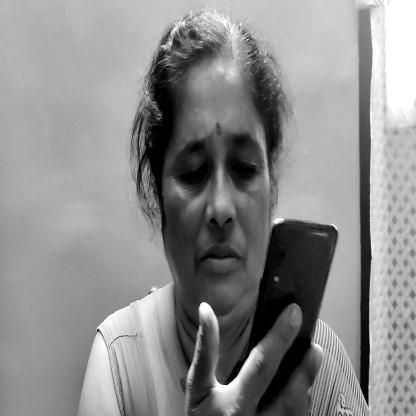Distracted: (143, 22, 267, 316)
